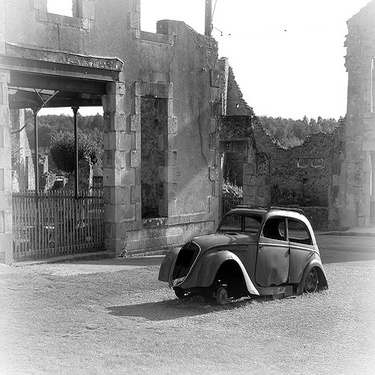car: (152, 198, 329, 308)
